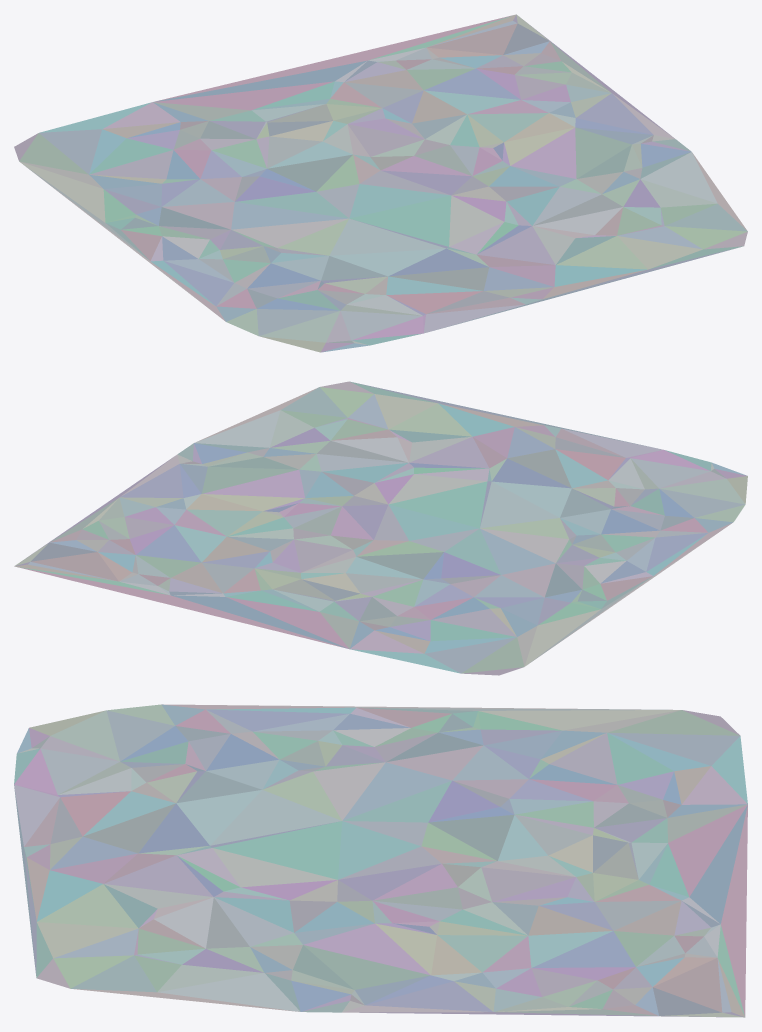
Rendered from example.gltf.
3 views of the same model, one above another, from view 1: azimuth 30°, elevation 25°; view 2: azimuth 150°, elevation 25°; view 3: azimuth 270°, elevation 25° (orthographic). The views are drawn at different scales.
Visible parts, largest first — view 1: delaunay; view 2: delaunay; view 3: delaunay.
Boxes of the visible parts, x1,y1,x2,y2 form: delaunay: (14, 14, 747, 352); delaunay: (14, 381, 747, 675); delaunay: (14, 704, 747, 1017).
Bounding box in the file's own units: 0.9971 × 0 × 0.9881.
